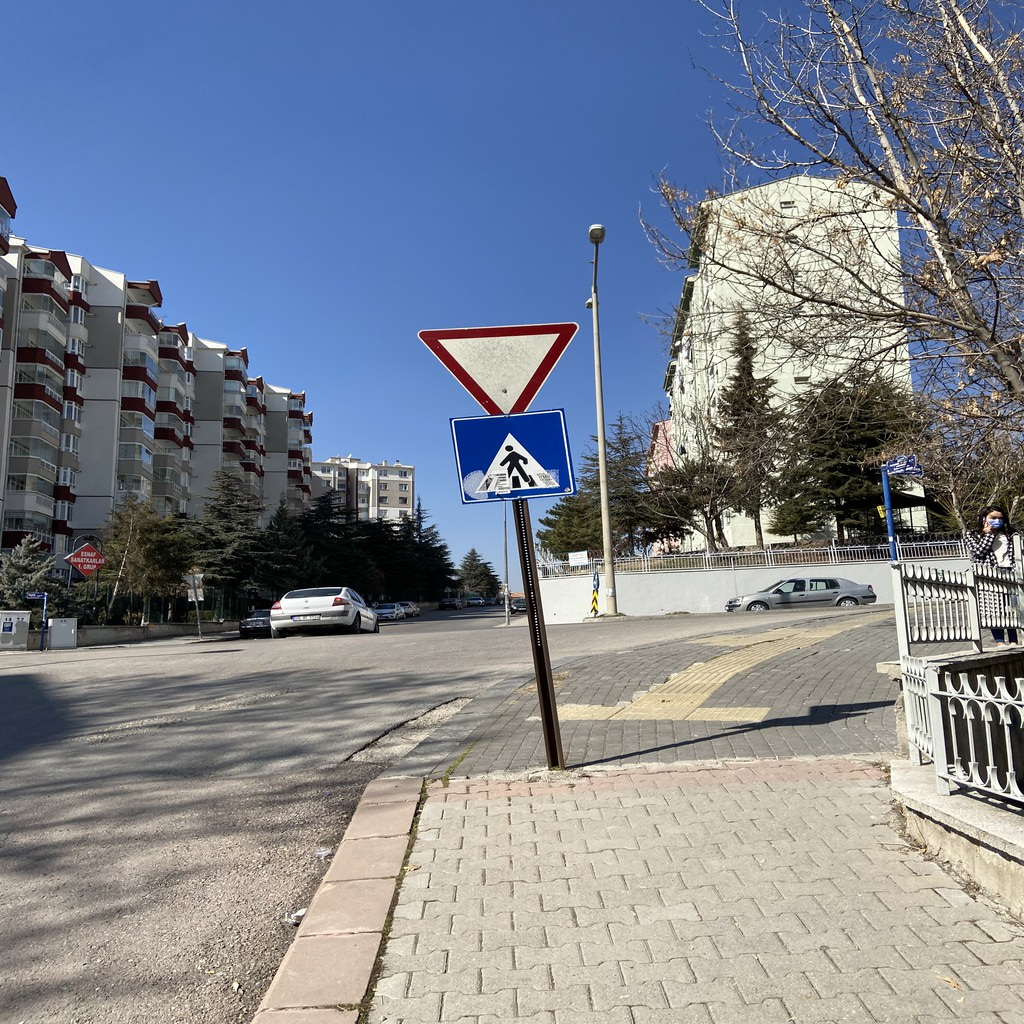Yaya Gecidi: (454, 414, 589, 496)
Yol Ver: (405, 315, 581, 419)
